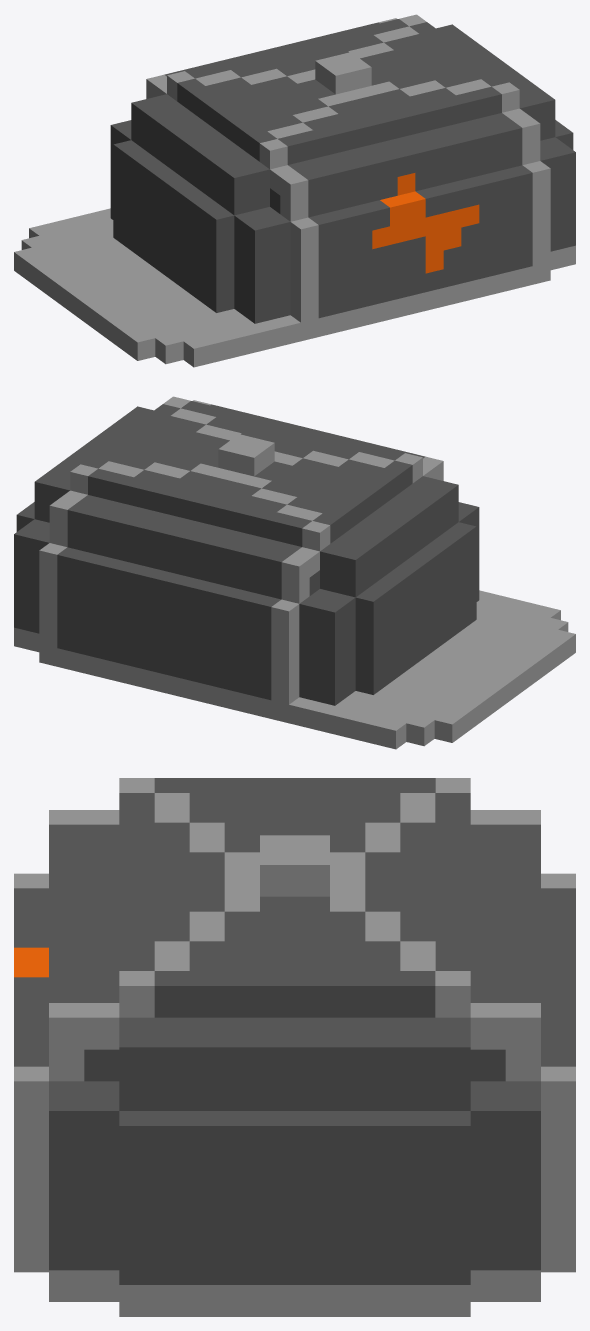
3 renders of one model, top to bottom at view 1: azimuth 30°, elevation 25°; view 2: azimuth 150°, elevation 25°; view 3: azimuth 270°, elevation 25°, orthographic. The views are drawn at different scales.
Visible parts, largest first — view 1: 139; view 2: 139; view 3: 139.
Part boxes in pixels (box(x1,y1,x2,y2)): 139: box(14, 14, 575, 367); 139: box(14, 396, 575, 749); 139: box(14, 778, 575, 1316).
Bounding box in the file's own units: 2.5 × 1 × 1.6.
Materials: 1 (1 with a texture image).
